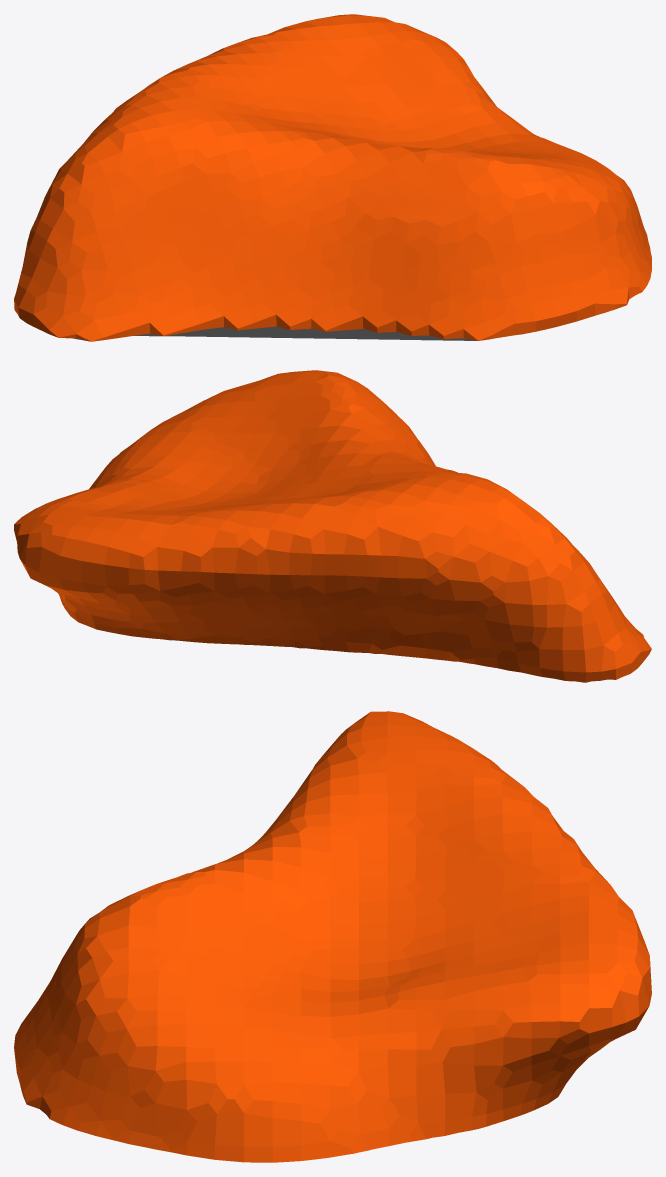
The picture shows the model from 3 angles, top to bottom: view 1: azimuth 30°, elevation 25°; view 2: azimuth 150°, elevation 25°; view 3: azimuth 270°, elevation 25°; orthographic projection. The views are drawn at different scales.
Parts seen in each view (by area): view 1: 19.012; view 2: 19.012; view 3: 19.012.
Part boxes in pixels (x1=…): 19.012: x1=14, y1=14, x2=651, y2=341; 19.012: x1=14, y1=370, x2=651, y2=682; 19.012: x1=14, y1=711, x2=651, y2=1162.
Size of the model in its own units: 13.7 by 3.66 by 11.09.
